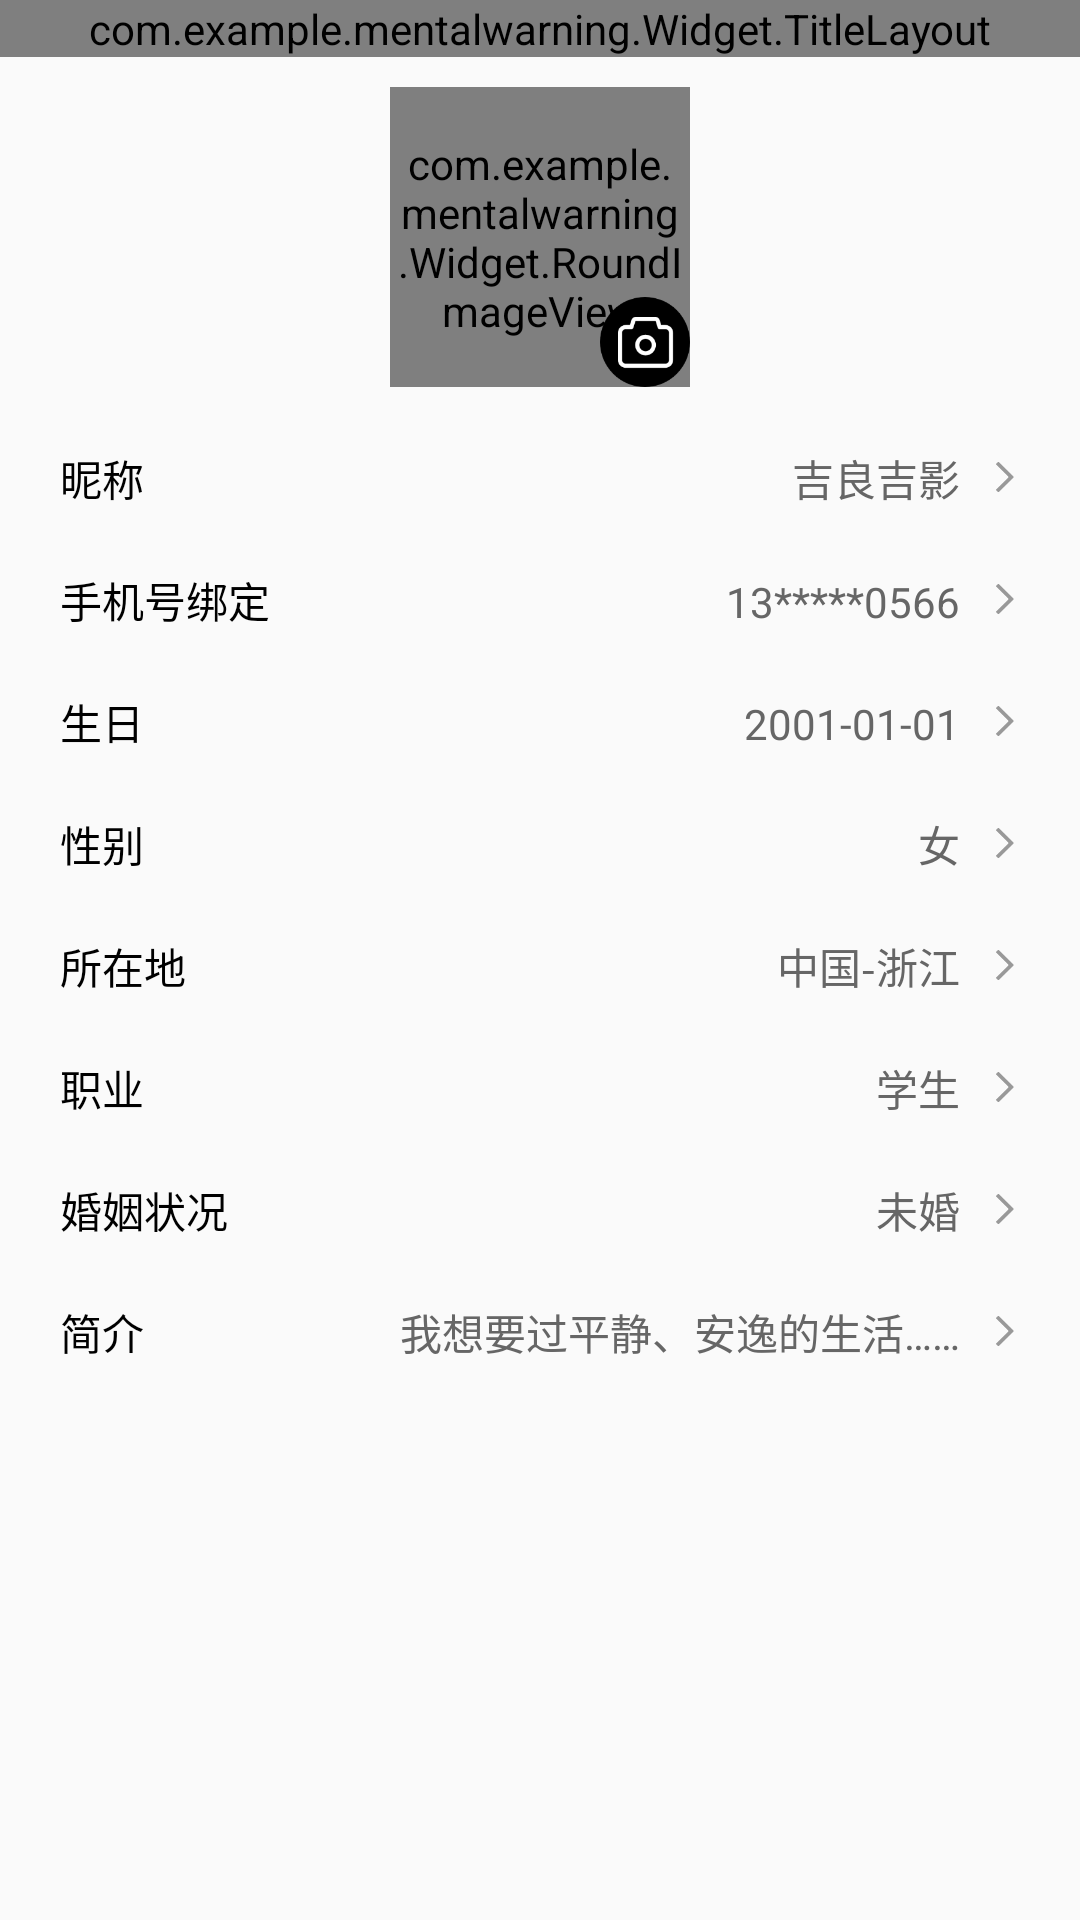

Named icons in this screenshot (1080×1920) and their centers, [x,y]:
camera: [645,342]
next: [1005,477], [1005,599], [1005,721], [1005,843], [1005,965], [1005,1087], [1005,1209], [1005,1331]
